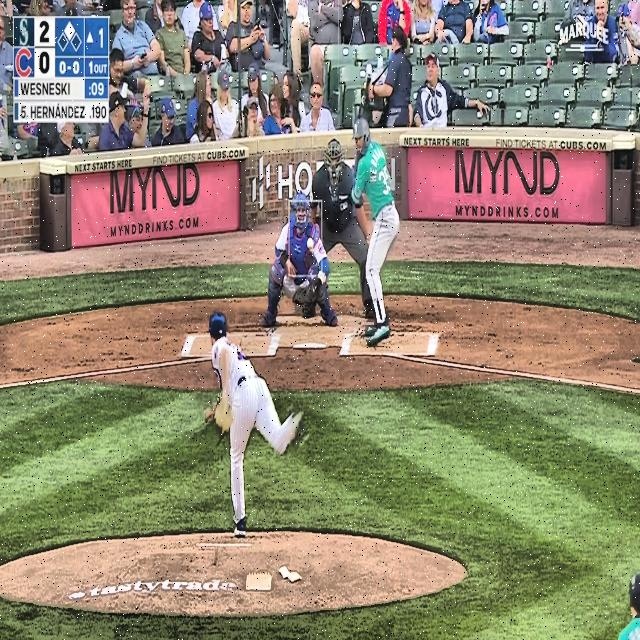baseball: (306, 237, 314, 249)
